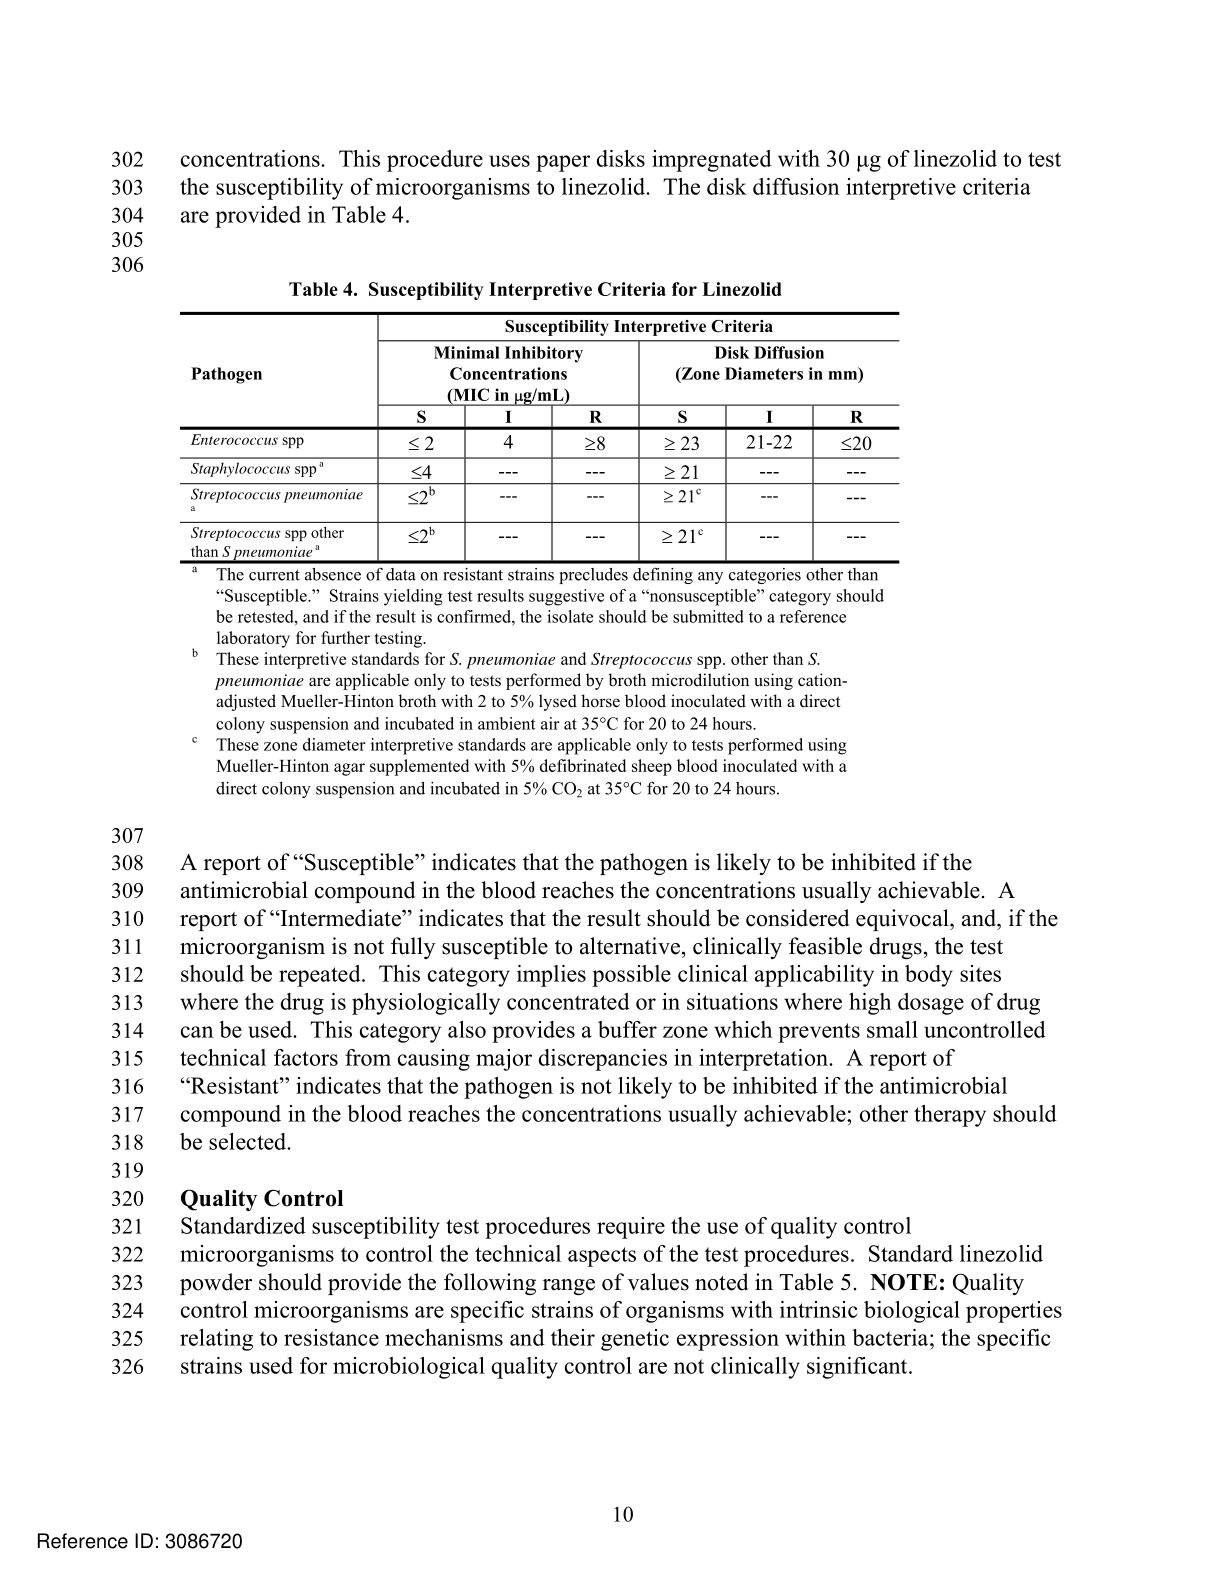partial_lined_merged_cells: (177, 309, 901, 564)
